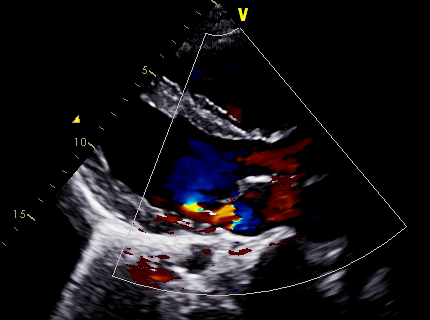AR: (231, 134, 318, 193)
